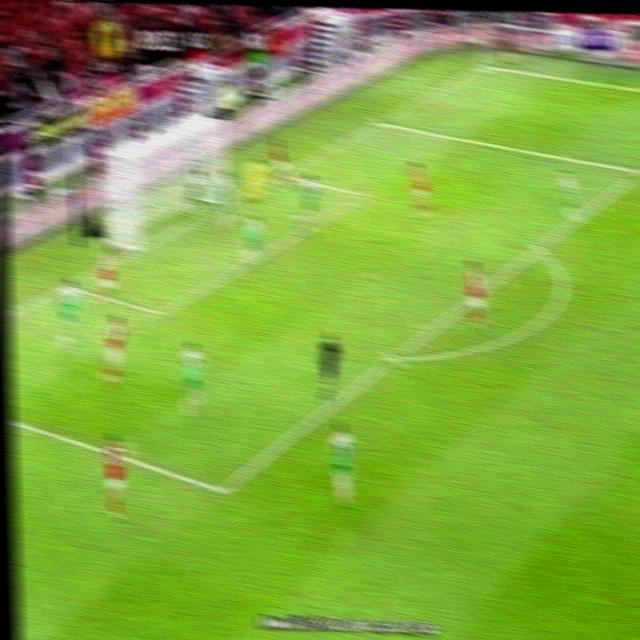bigarea_bottom_inner: (206, 471, 234, 506)
bigarea_top_inner: (627, 159, 640, 182)
bigarea_top_outter: (370, 111, 391, 131)
bottom_arc_area_intersection: (381, 342, 406, 369)
corner: (469, 57, 494, 73)
smallarea_bottom_inner: (147, 297, 172, 326)
smallarea_top_inner: (350, 184, 372, 204)
top_arc_area_intersection: (527, 237, 548, 257)
